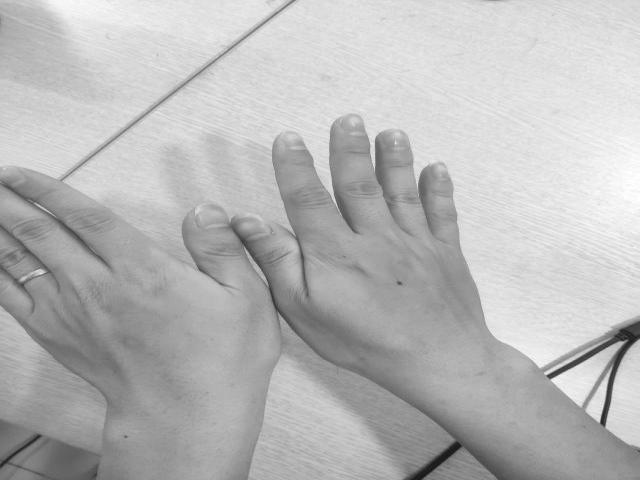not-gloved: (0, 158, 275, 388), (244, 115, 506, 338)
